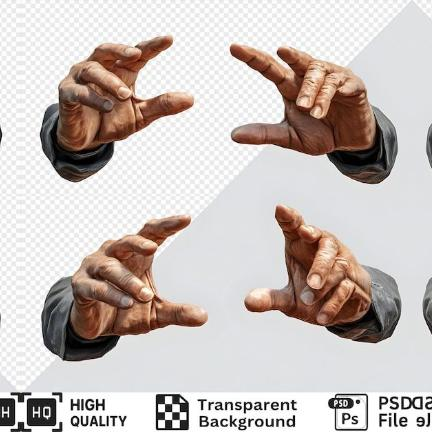Nail: (139, 287, 152, 300), (120, 296, 132, 306), (140, 241, 151, 248)
